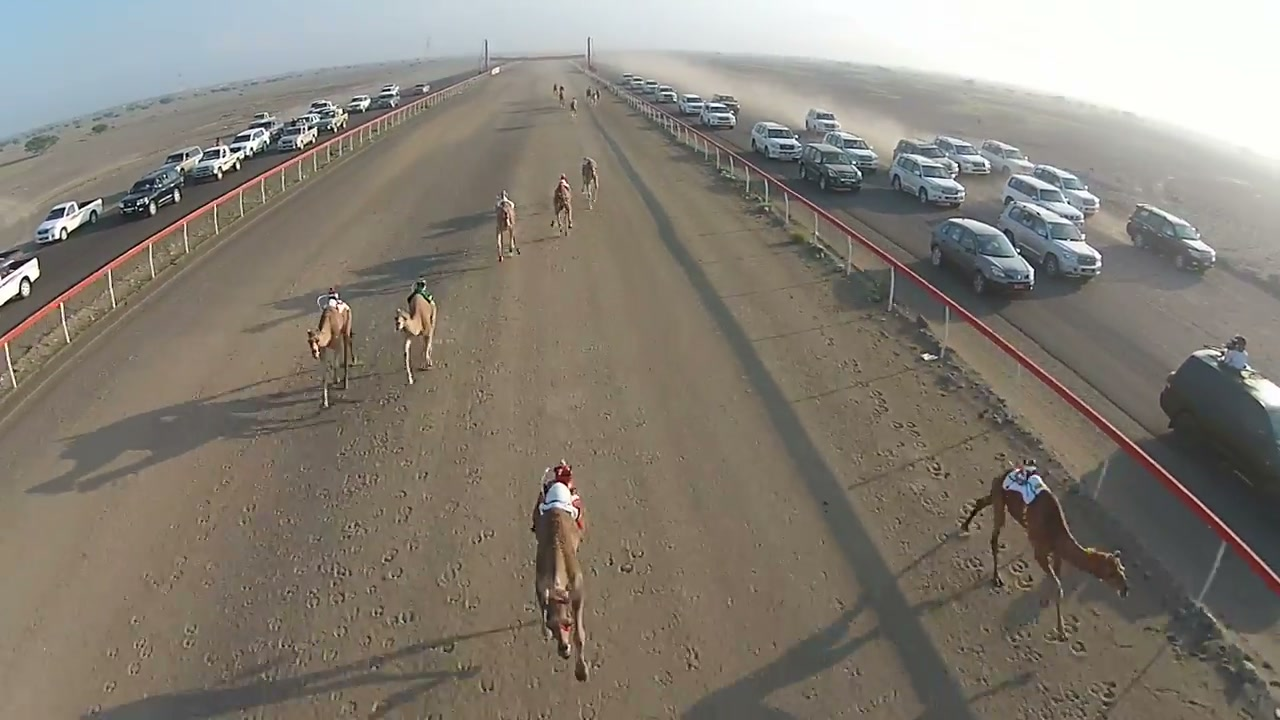animal_foot_print: (86, 406, 506, 711)
